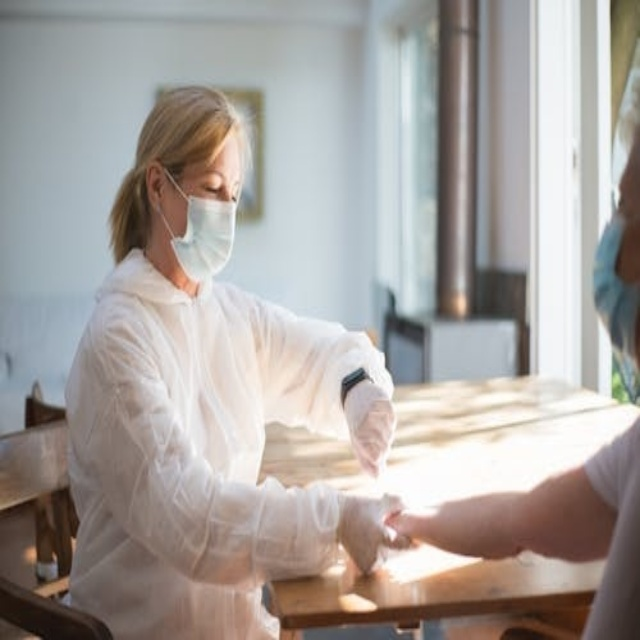Guantes: (339, 490, 411, 577), (344, 376, 397, 477)
Mascara: (584, 201, 636, 358), (169, 186, 247, 278)
Sin_gafas: (192, 161, 250, 209)
